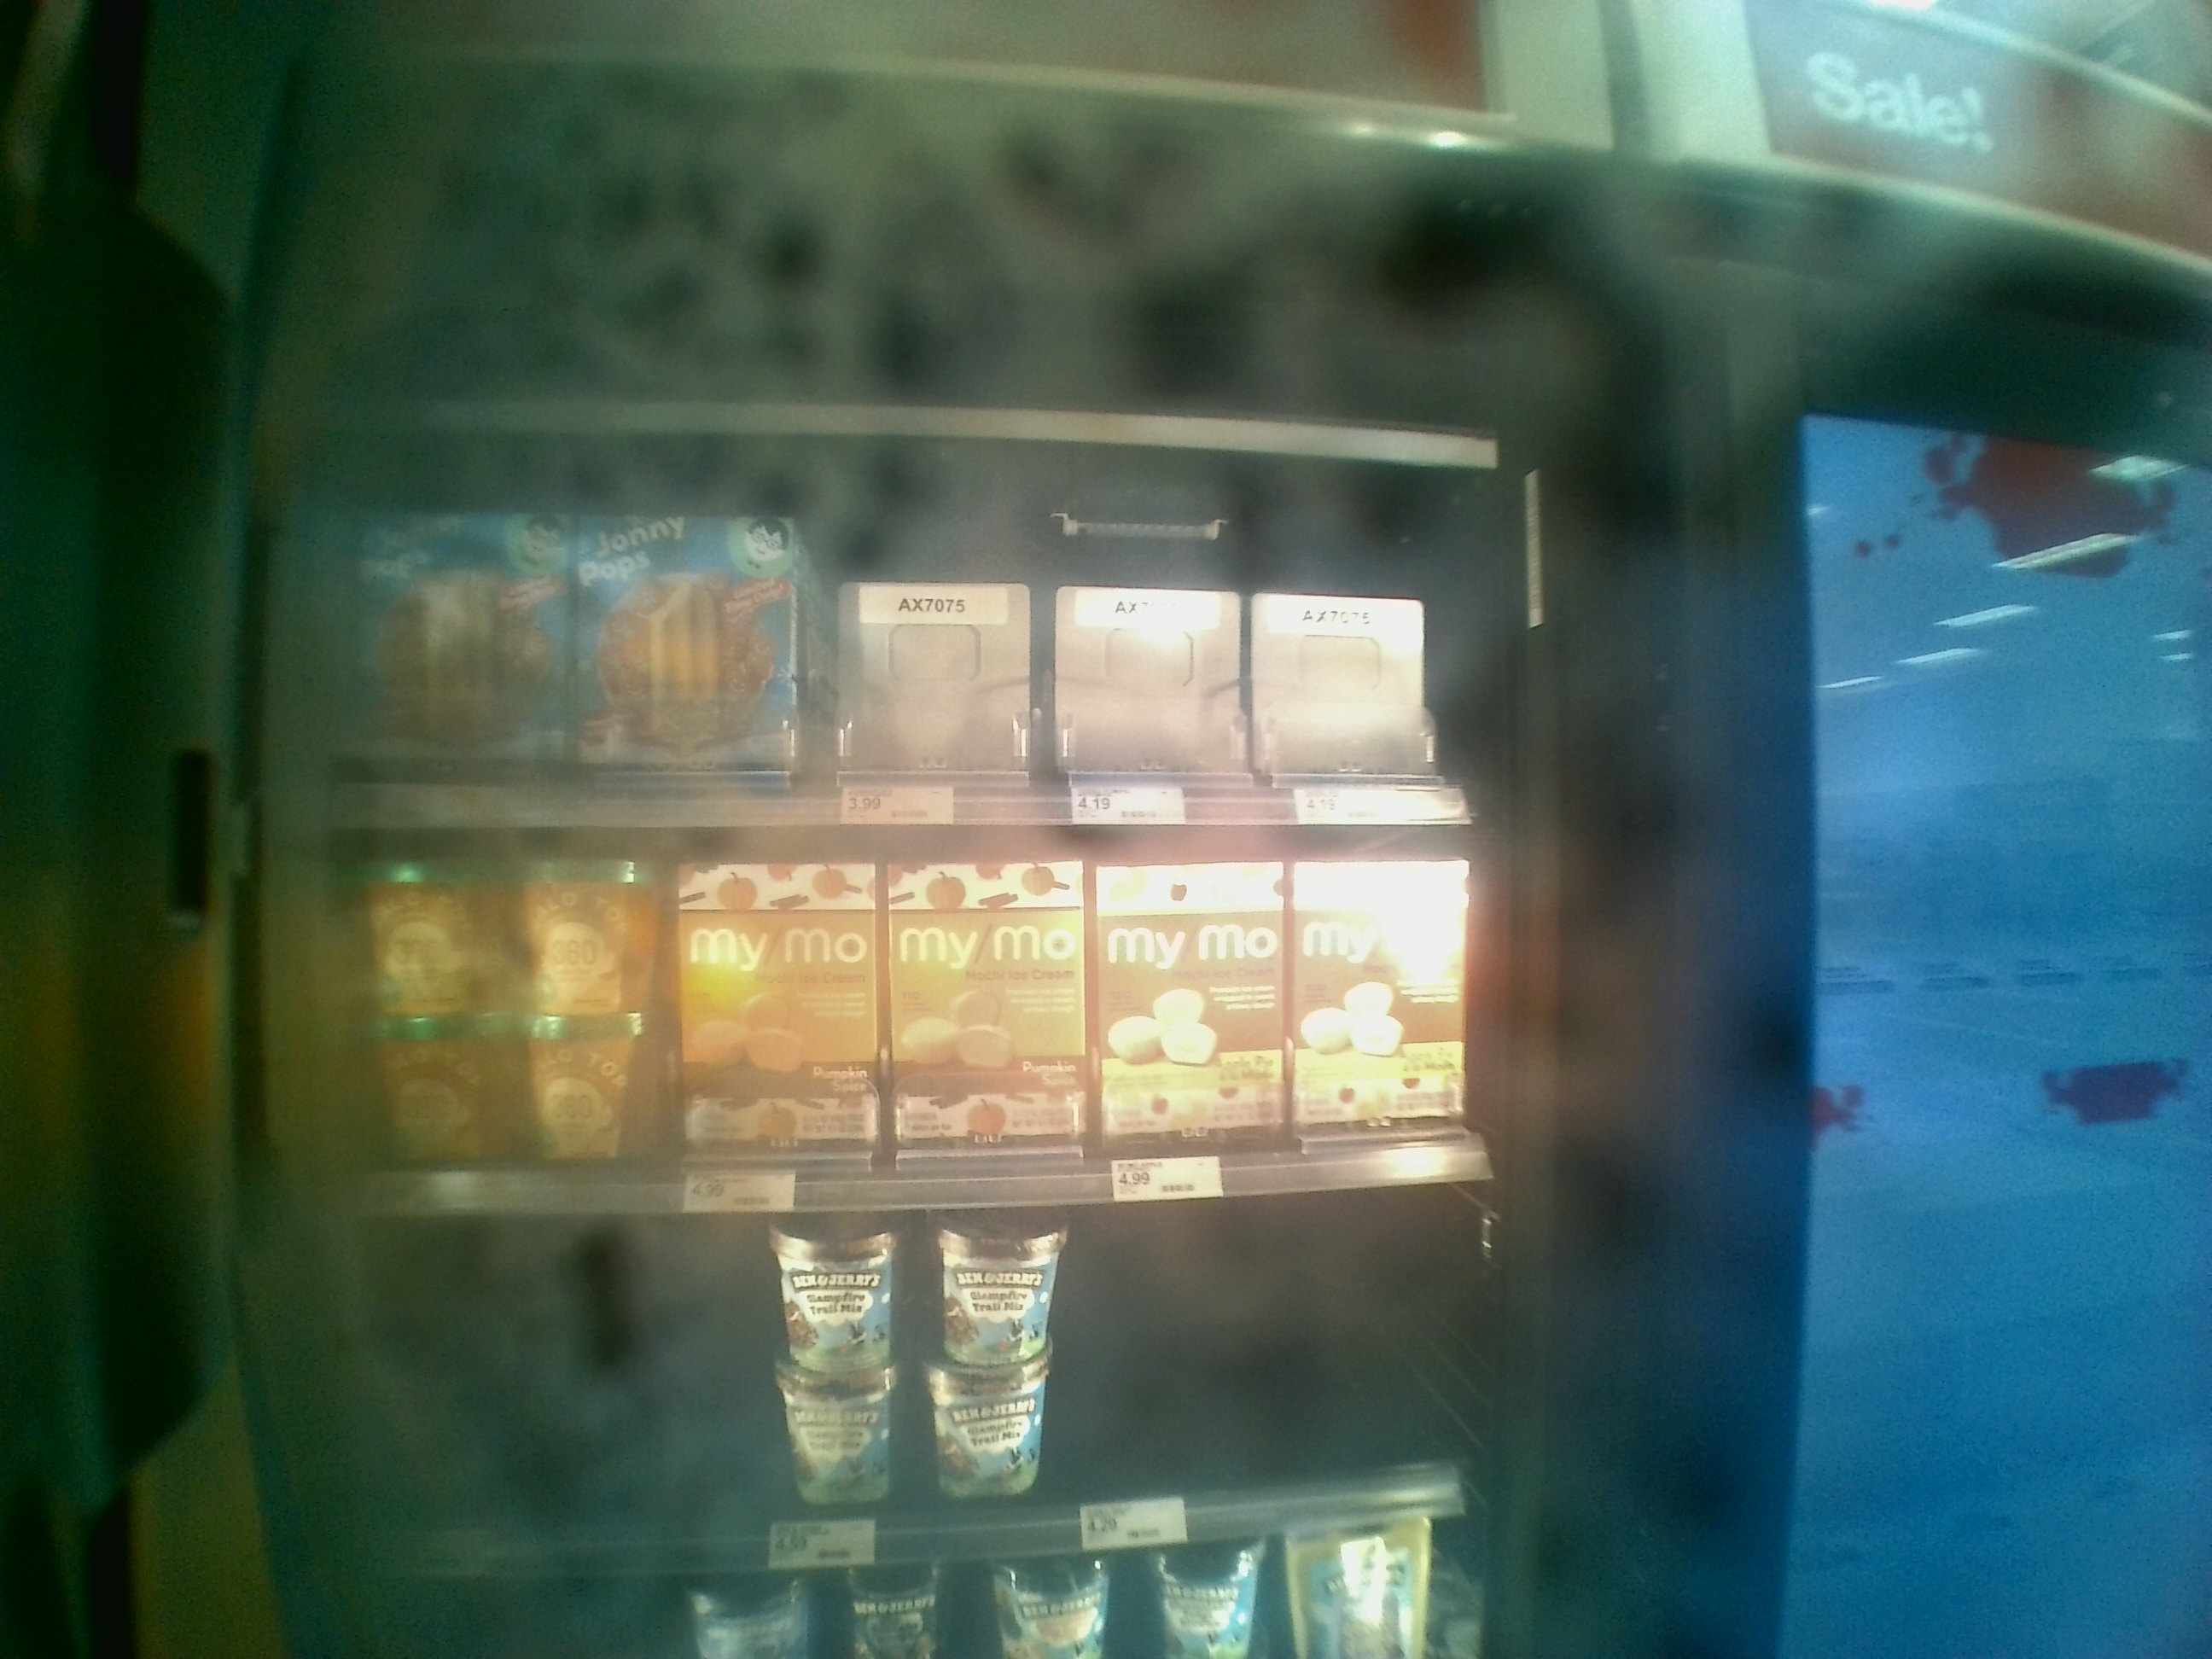shelf: (265, 416, 1501, 798), (289, 791, 1491, 1171), (280, 1187, 1479, 1506)
